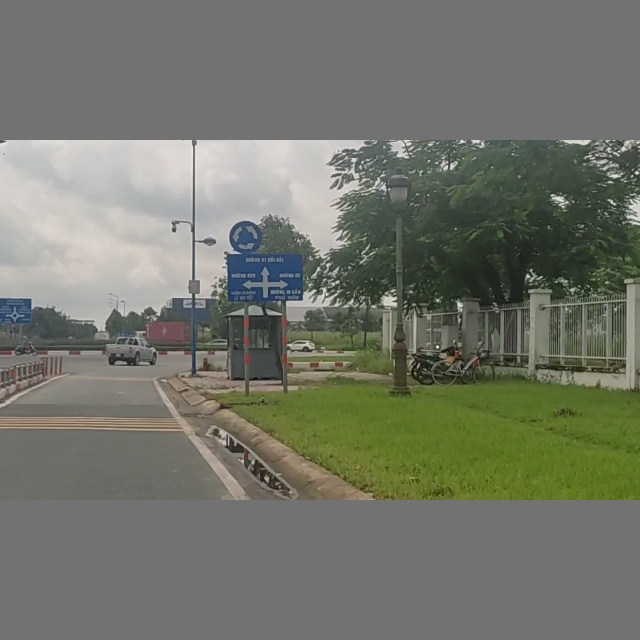R.303: (227, 218, 263, 255)
